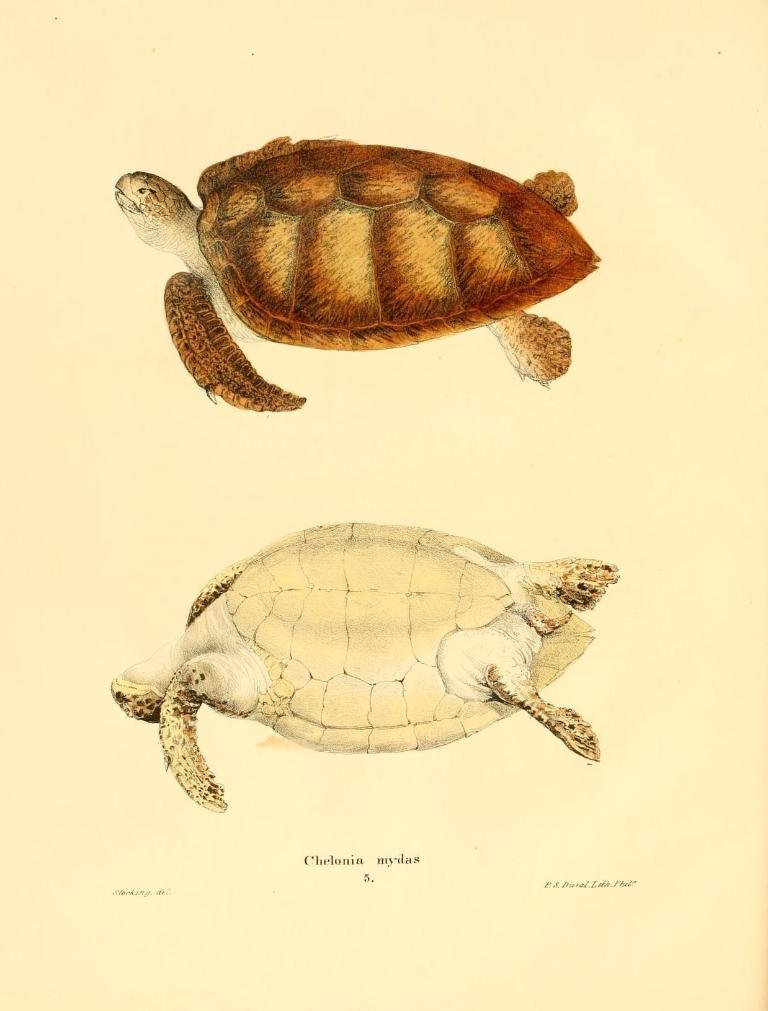Sea turtles: (99, 508, 625, 813), (110, 128, 597, 418)
